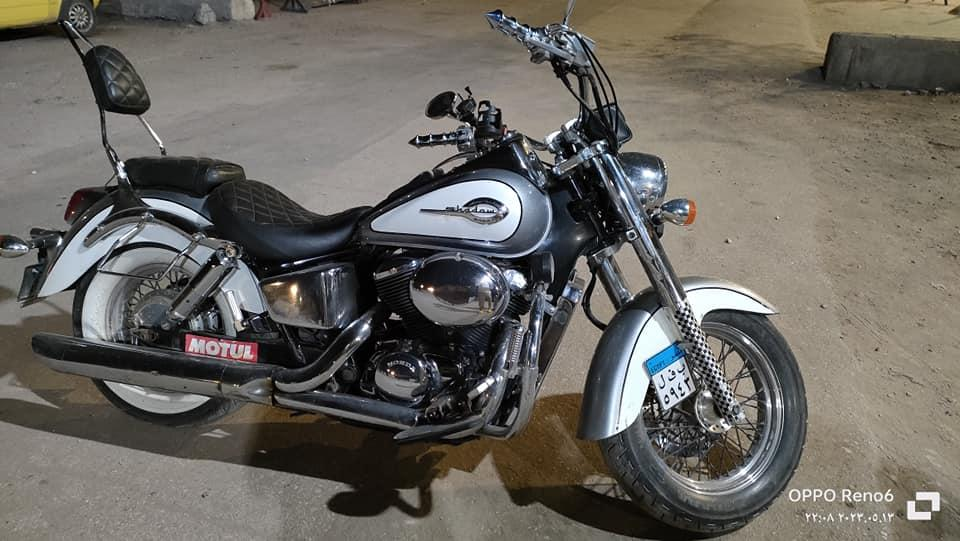License Plate: (643, 344, 698, 410)
